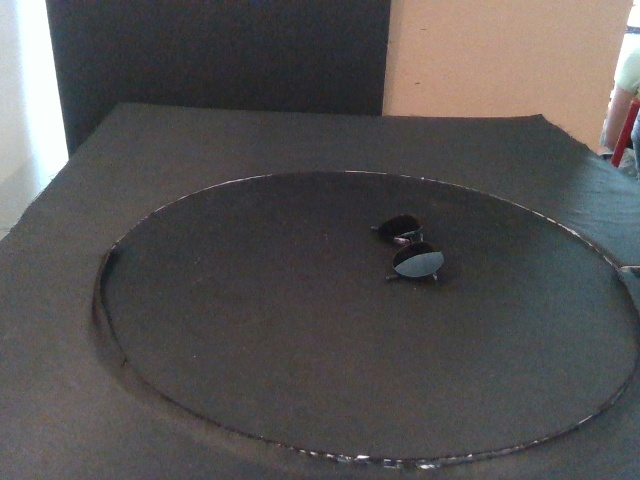glasses: (369, 214, 445, 284)
